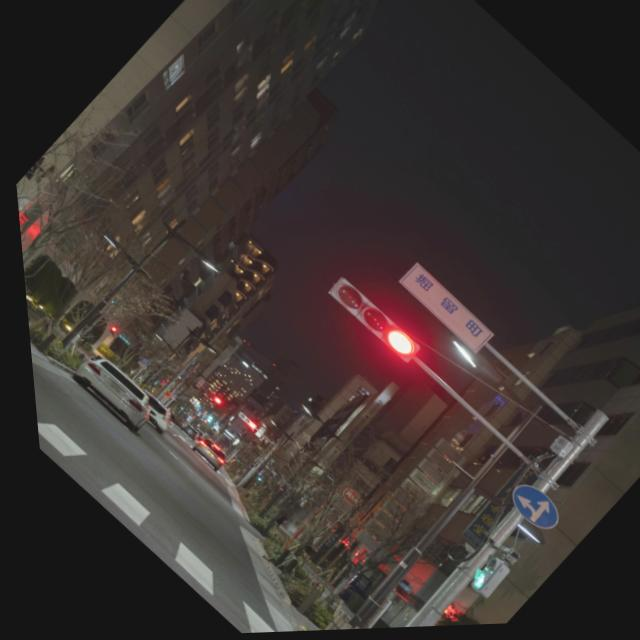Kuning: (377, 328, 411, 362)
Merah: (240, 423, 248, 431), (206, 399, 214, 406)
